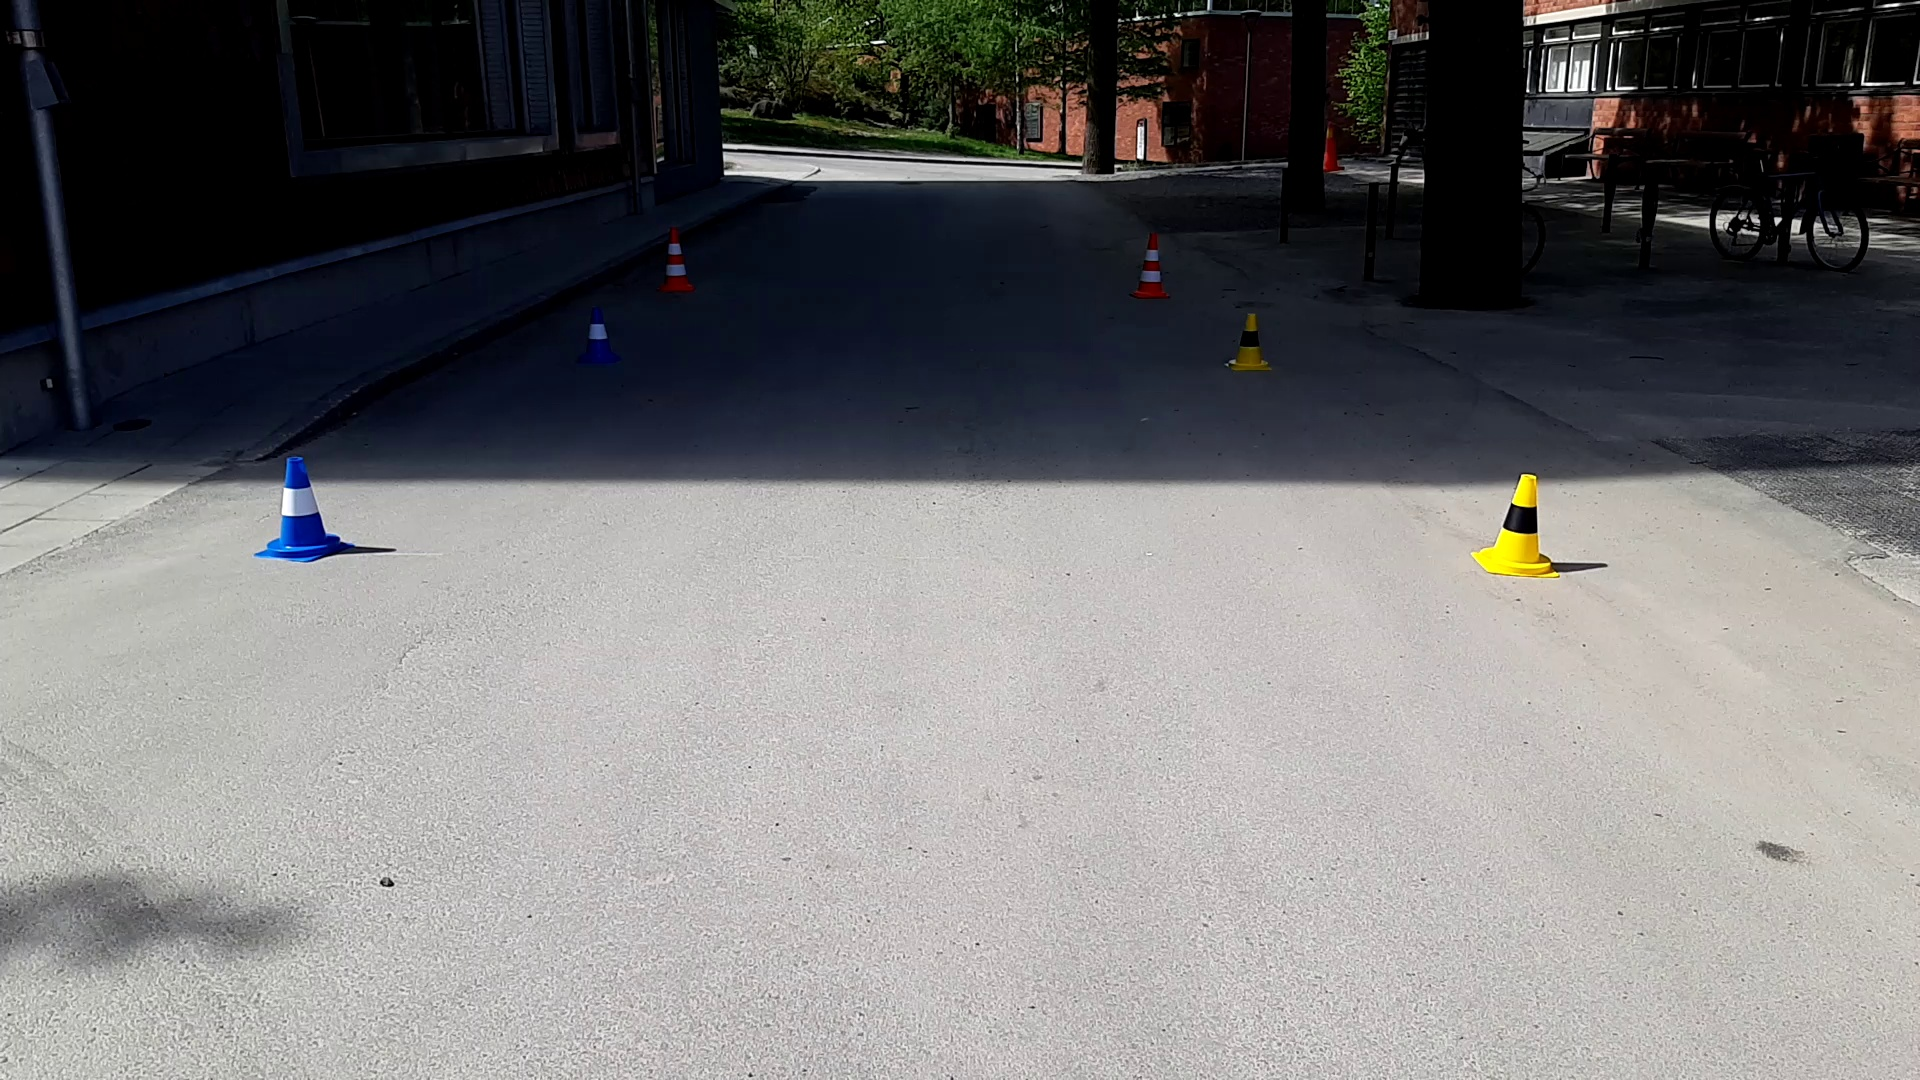Cone: (1468, 472, 1564, 578), (258, 455, 345, 563), (1222, 313, 1276, 375), (655, 224, 699, 301), (1126, 229, 1172, 301), (582, 303, 616, 365)
